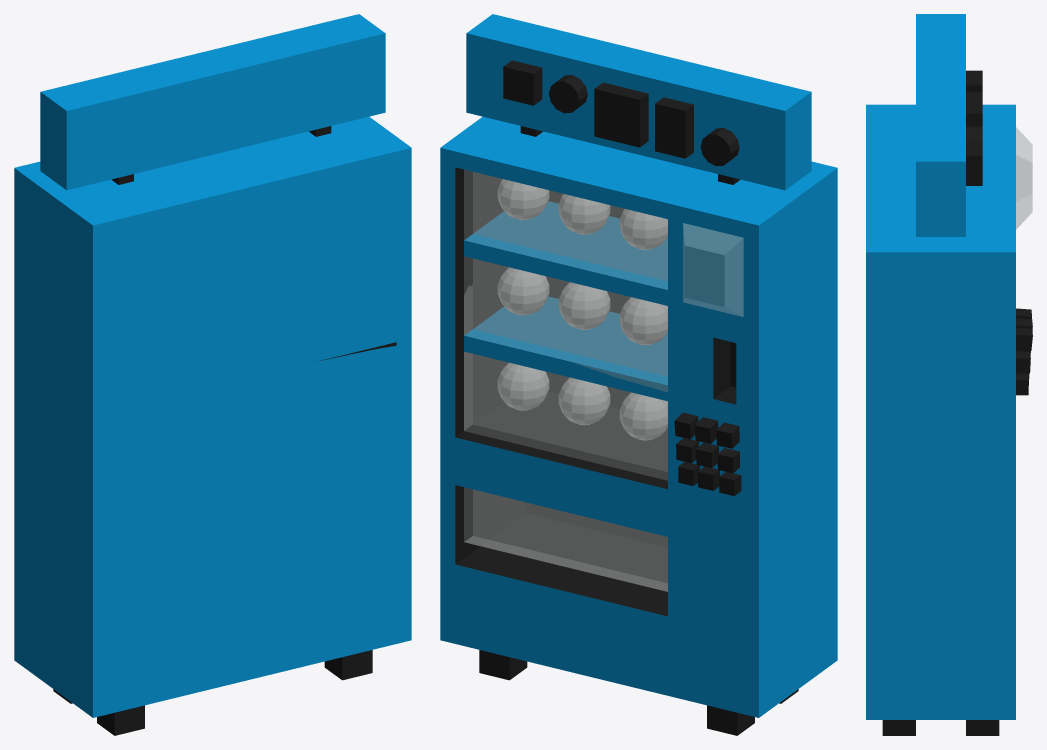
Rendered from vendingmachine4.glb.
The picture shows the model from 3 angles, left to right: view 1: azimuth 30°, elevation 25°; view 2: azimuth 150°, elevation 25°; view 3: azimuth 270°, elevation 25°; orthographic projection. The views are drawn at different scales.
Visible parts, largest first — view 1: group1858506000, group1887676826, group577397298, group1222169380, group1871551305, group1982615210; view 2: group1887676826, group1016280600, group1653716828, group577397298, group19616759, group522768280, group1222169380, group892156184, group1394142260, group351965626, group1858506000, group134552523 (+16 smaller); view 3: group19616759, group577397298, group1858506000, group1222169380, group1887676826, group134552523, group962782918, group850966255, group1471477505, group1871551305, group1266518904, group185908305 (+2 smaller).
Part boxes in pixels (x1,y1,x2,y2): group1858506000: [84, 141, 411, 717]; group1887676826: [14, 161, 174, 711]; group577397298: [40, 14, 385, 190]; group1222169380: [142, 120, 387, 196]; group1871551305: [324, 650, 372, 680]; group1982615210: [97, 705, 144, 735]; group1887676826: [668, 170, 828, 717]; group1016280600: [464, 170, 667, 480]; group1653716828: [455, 513, 667, 695]; group577397298: [466, 14, 811, 190]; group19616759: [440, 116, 524, 643]; group522768280: [455, 392, 667, 536]; group1222169380: [455, 120, 709, 218]; group892156184: [464, 487, 667, 591]; group1394142260: [464, 201, 667, 305]; group351965626: [464, 296, 667, 401]; group1858506000: [525, 161, 837, 666]; group134552523: [683, 223, 743, 316]; group19616759: [882, 245, 1015, 719]; group577397298: [916, 14, 965, 236]; group1858506000: [866, 104, 882, 719]; group1222169380: [882, 146, 1015, 245]; group1887676826: [882, 104, 1015, 146]; group134552523: [1016, 127, 1032, 229]; group962782918: [966, 141, 982, 185]; group850966255: [966, 92, 982, 125]; group1471477505: [966, 720, 999, 735]; group1871551305: [882, 720, 915, 735]; group1266518904: [1016, 327, 1032, 350]; group185908305: [966, 71, 982, 92].
Bounding box in the file's own units: 0.21 × 0.39 × 0.1003.
